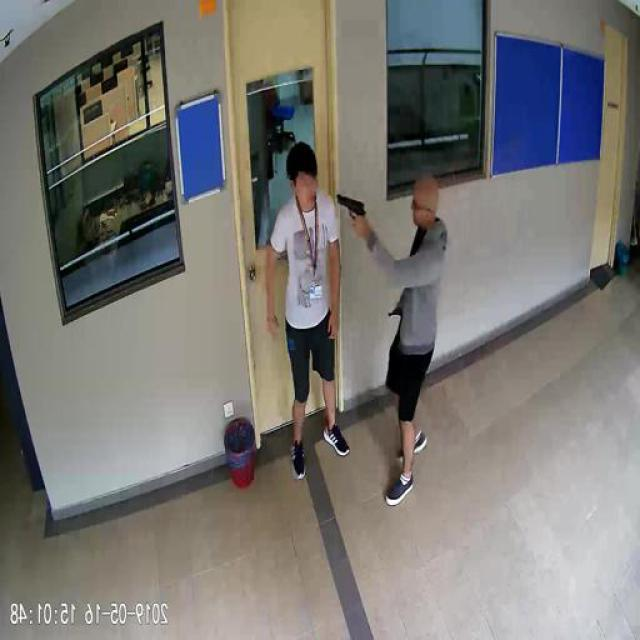Gun: (338, 192, 368, 232)
